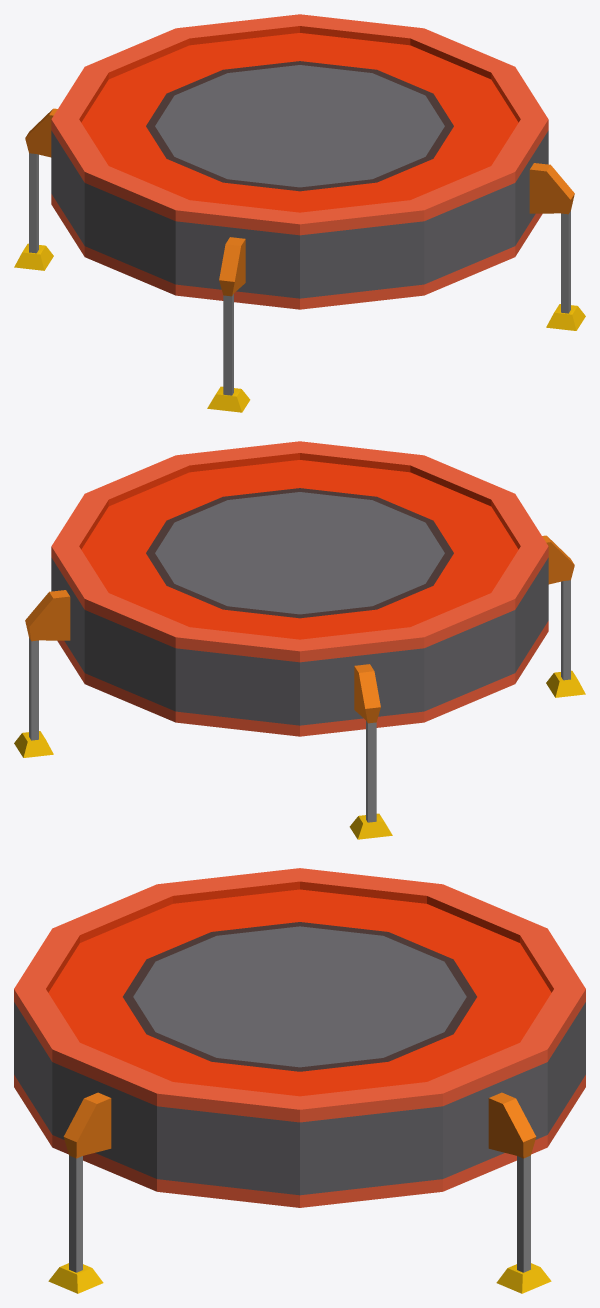
Rendered from Platform_Genesis.glb.
The picture shows the model from 3 angles, top to bottom: view 1: azimuth 30°, elevation 25°; view 2: azimuth 150°, elevation 25°; view 3: azimuth 270°, elevation 25°; orthographic projection. The views are drawn at different scales.
Parts seen in each view (by area): view 1: Genesis_PlatformDrone; view 2: Genesis_PlatformDrone; view 3: Genesis_PlatformDrone.
Part boxes in pixels (x1,y1,x2,y2): Genesis_PlatformDrone: (14, 14, 585, 412); Genesis_PlatformDrone: (14, 441, 585, 839); Genesis_PlatformDrone: (14, 868, 585, 1293).
Size of what is drawn, in the model's own units: 2 by 0.766 by 2.
1 material, 1 textured.
